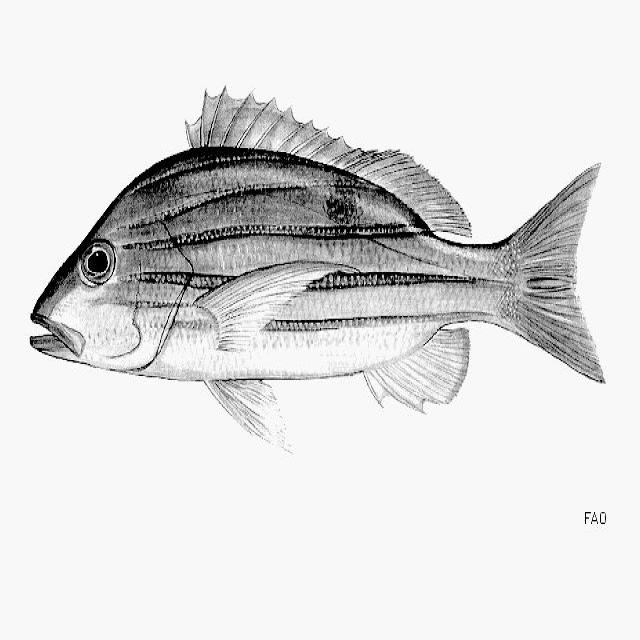ikan: (29, 84, 606, 452)
